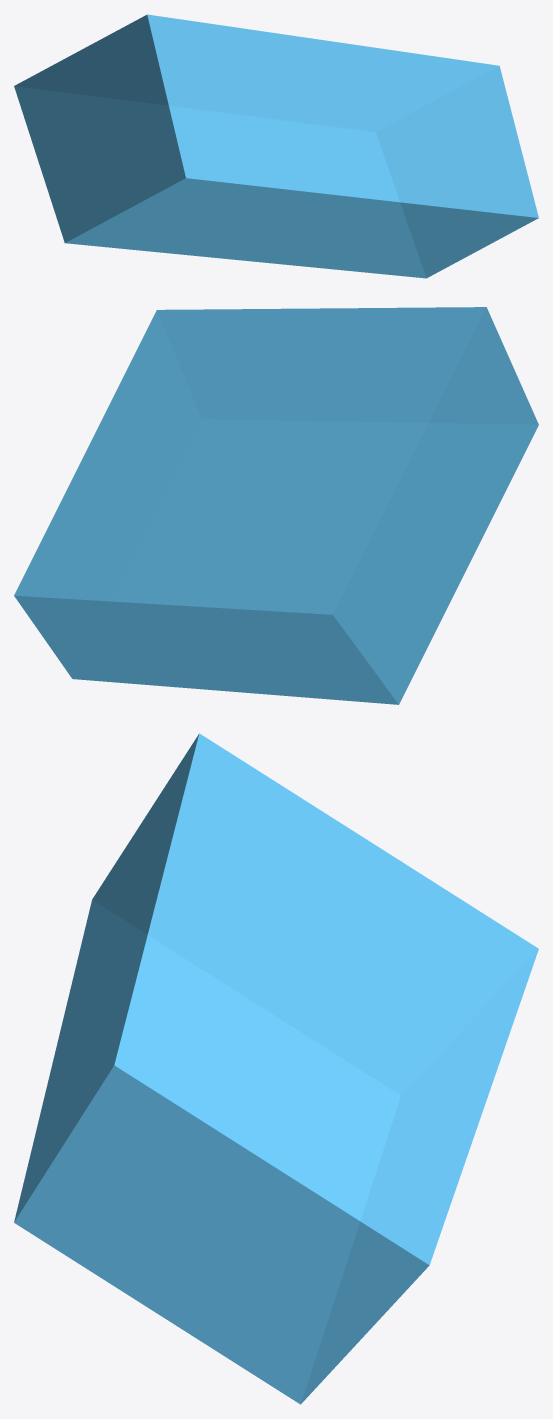
Rendered from Event_420094457_HErechit_5.fbx.
The picture shows the model from 3 angles, top to bottom: view 1: azimuth 30°, elevation 25°; view 2: azimuth 150°, elevation 25°; view 3: azimuth 270°, elevation 25°; orthographic projection. The views are drawn at different scales.
Visible parts, largest first — view 1: Model; view 2: Model; view 3: Model.
Boxes of the visible parts, x1,y1,x2,y2 form: Model: (14,14,538,278); Model: (14,307,538,704); Model: (14,733,538,1404).
Size of the model in its own units: 0.7915 by 0.8704 by 0.8758.
